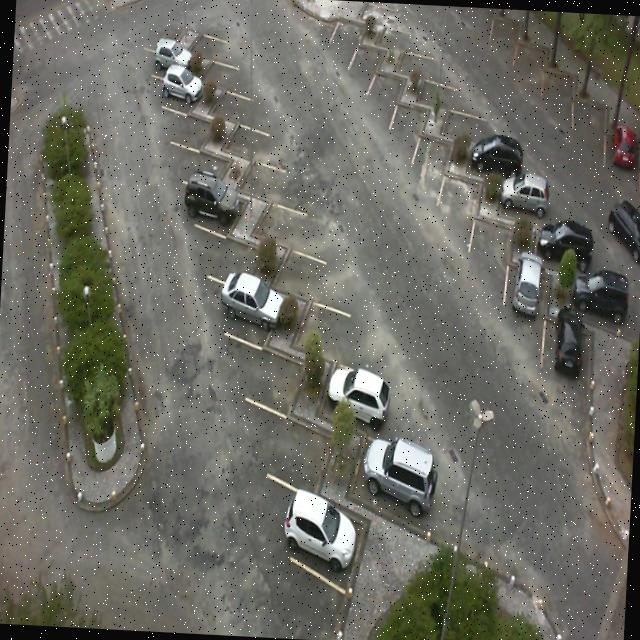empty: (262, 389, 344, 482), (241, 322, 313, 407), (300, 288, 365, 360), (273, 233, 342, 299), (258, 189, 322, 247), (206, 218, 267, 278), (242, 144, 304, 200), (471, 206, 514, 284), (212, 72, 270, 124), (178, 131, 234, 183), (438, 168, 482, 234), (408, 126, 454, 189), (166, 92, 218, 144), (328, 8, 368, 70), (389, 95, 428, 158), (231, 112, 283, 159), (422, 65, 473, 111), (348, 40, 388, 96), (366, 65, 406, 119), (573, 88, 606, 150), (444, 100, 491, 142), (380, 13, 428, 52), (188, 23, 235, 62), (203, 51, 250, 89), (514, 38, 548, 89), (542, 60, 574, 113), (403, 41, 444, 80)
occupied: (290, 468, 380, 587), (311, 354, 387, 436), (356, 429, 428, 514), (222, 266, 290, 342), (571, 274, 635, 339), (540, 316, 593, 390), (196, 170, 256, 230), (537, 216, 592, 278), (504, 251, 548, 325), (503, 174, 562, 226), (473, 132, 526, 180), (160, 65, 210, 108), (150, 36, 197, 79)
